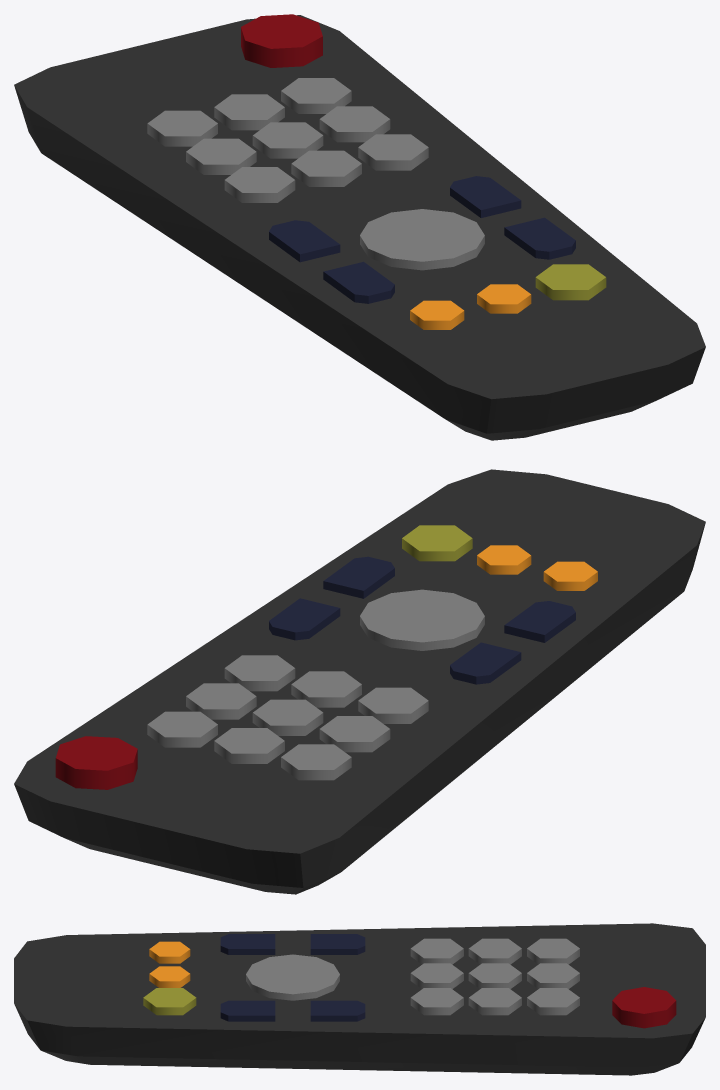
File: ThrowProp_TvRemote.FBX
3 renders of one model, top to bottom at view 1: azimuth 30°, elevation 25°; view 2: azimuth 150°, elevation 25°; view 3: azimuth 270°, elevation 25°, orthographic. The views are drawn at different scales.
Parts seen in each view (by area): view 1: Box002; view 2: Box002; view 3: Box002.
Part boxes in pixels (<box>): Box002: <box>14,14,705,440</box>; Box002: <box>14,469,705,894</box>; Box002: <box>14,923,705,1075</box>.
Bounding box in the file's own units: 9.82 × 25 × 2.58.
